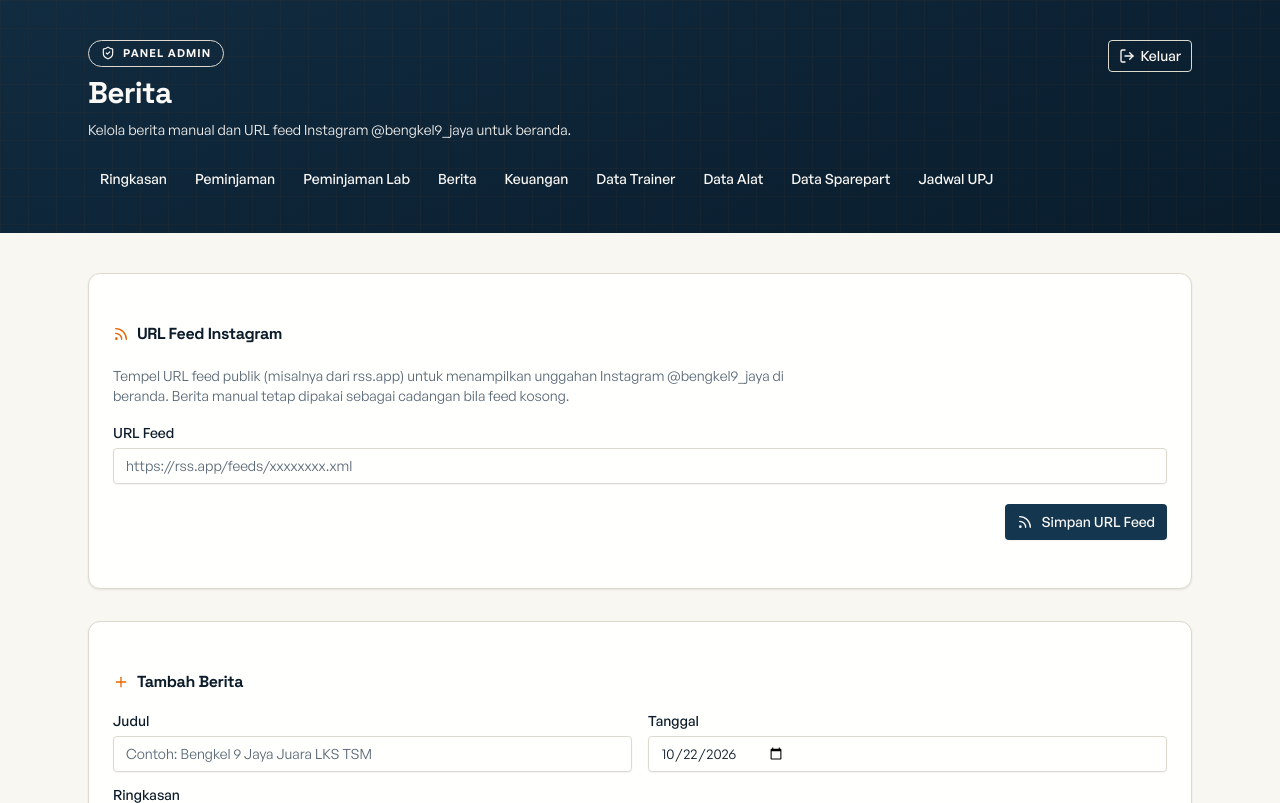
Test case: AdminBerita › saves the Instagram feed URL through the backend
In the field with test id "berita.feed_url.input": (640, 466) [113,448,1167,484], type "https://rss.app/feeds/abc.xml"
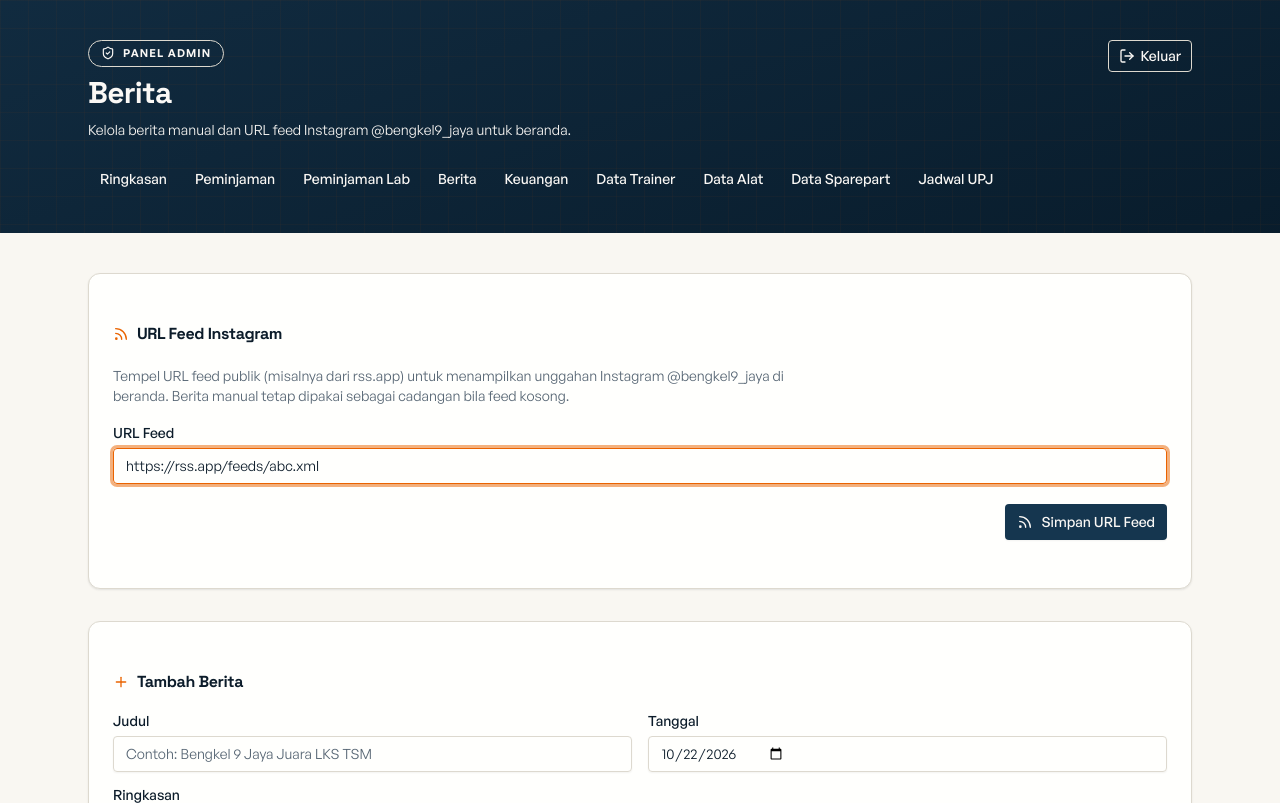
Click the button with test id "berita.feed.submit_button": (1086, 522) [1006,504,1167,540]
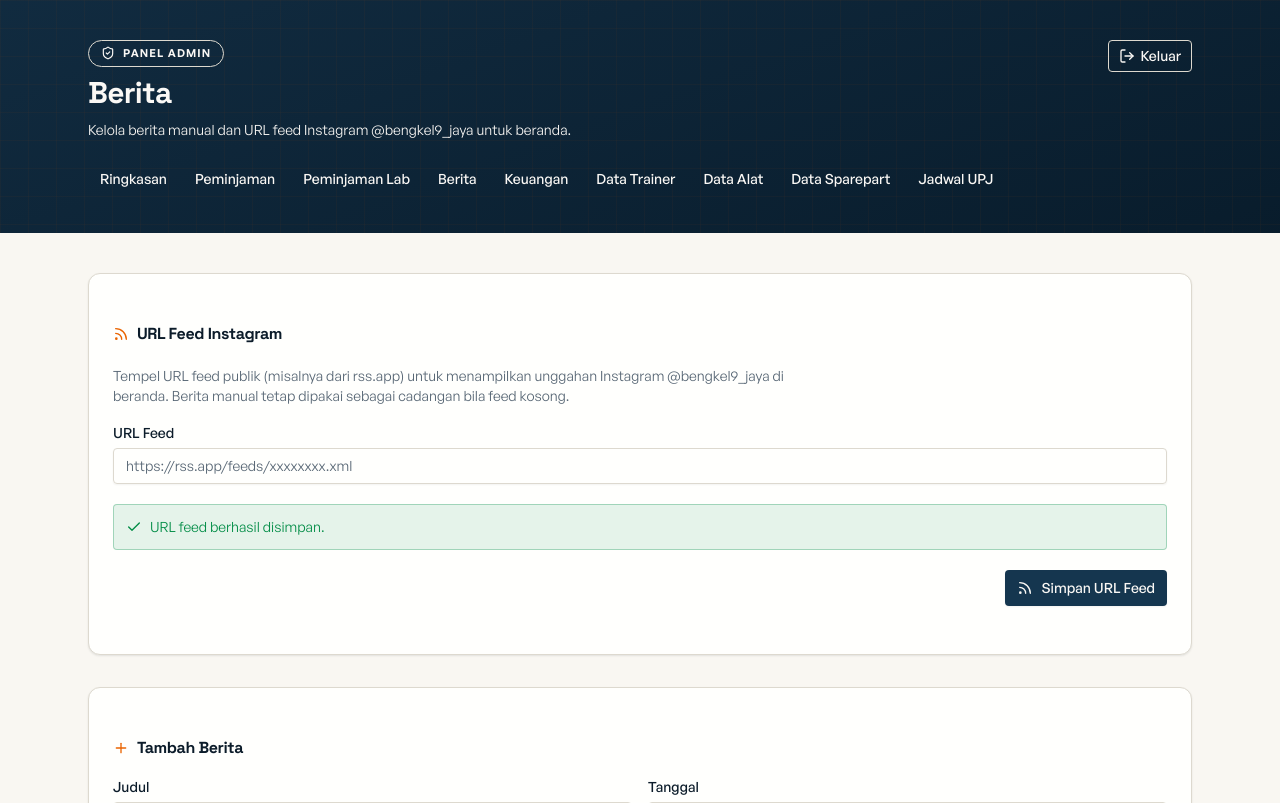
expect the element with test id "berita.feed.success_state" is shown: met, box [113,504,1167,550]
